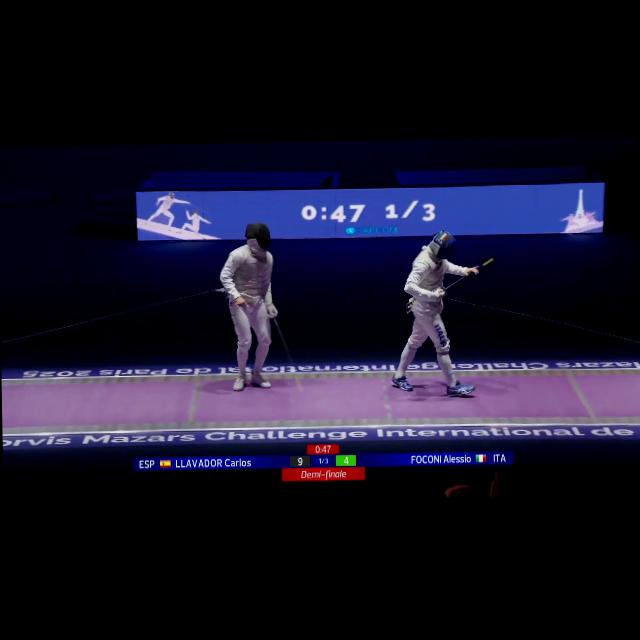blade: (268, 304, 304, 385), (434, 256, 496, 294)
